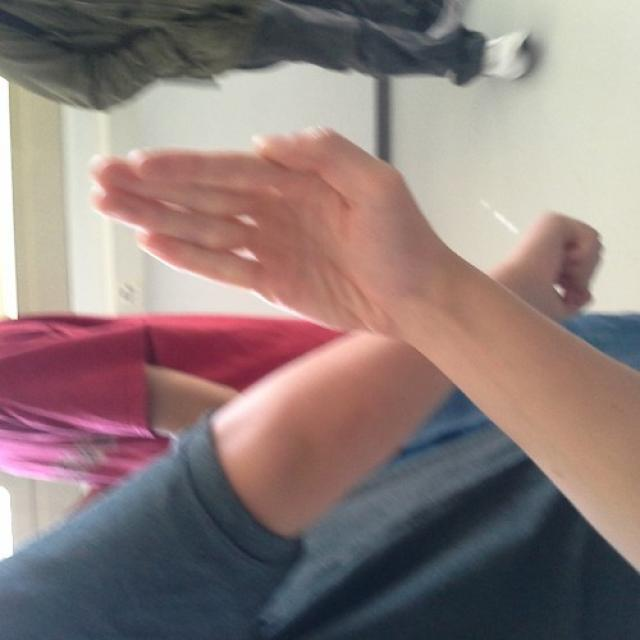paper: (90, 126, 424, 344)
